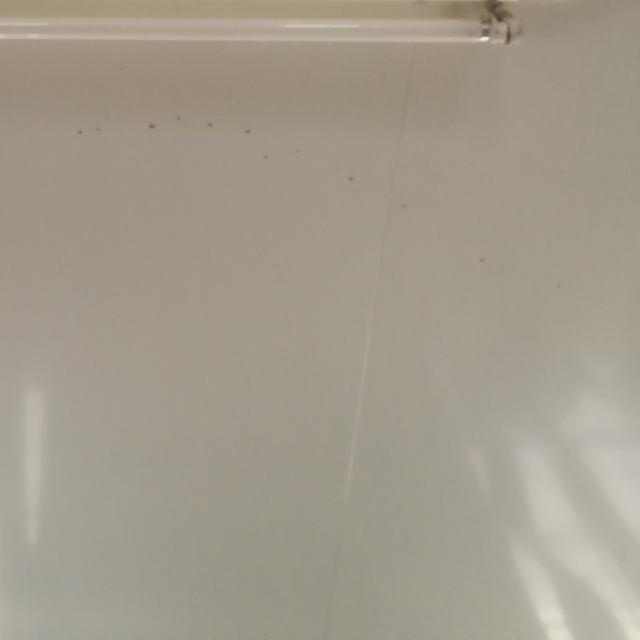fluorescent tube: (0, 0, 542, 149)
